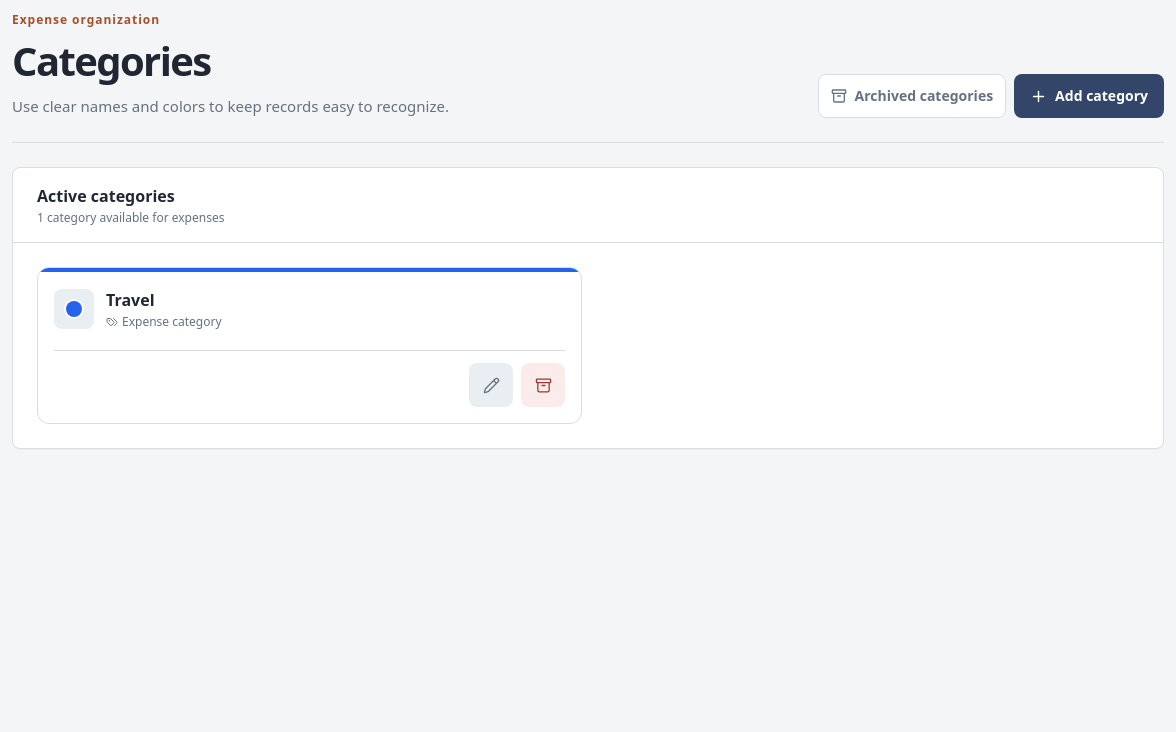
Test case: expense category management › archives a confirmed category
Click the button named "Archive Travel".
click(543, 385)  # box [521,363,565,407]
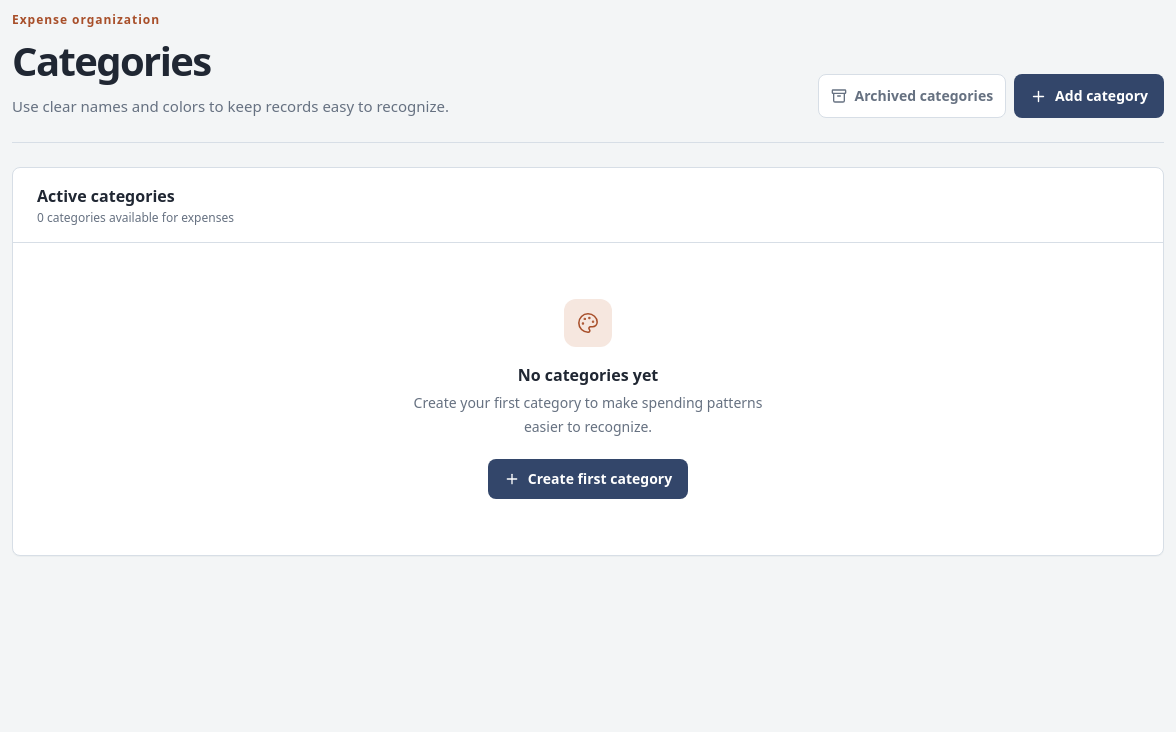
expect the text "Travel" is gone: met
expect the text "No categories yet" is shown: met, box [518,364,658,386]
